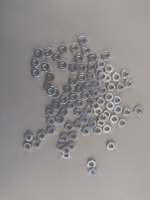nut: (31, 68, 41, 78), (30, 58, 40, 68), (58, 61, 68, 71), (78, 36, 88, 46), (98, 72, 108, 82), (75, 84, 85, 94), (112, 72, 122, 82), (53, 52, 62, 63), (70, 43, 79, 54), (34, 49, 44, 58), (41, 63, 51, 72), (46, 73, 55, 83), (59, 45, 68, 55), (75, 54, 84, 64), (69, 63, 78, 73), (102, 51, 111, 61), (89, 53, 98, 63), (69, 93, 79, 102), (63, 85, 73, 94), (114, 106, 124, 115), (135, 106, 144, 116), (106, 102, 116, 111), (78, 63, 87, 73), (69, 77, 79, 86), (87, 72, 97, 81), (77, 74, 87, 83), (83, 82, 93, 91), (81, 91, 91, 100), (93, 79, 102, 89), (87, 63, 97, 72), (105, 64, 114, 74), (107, 83, 117, 92), (107, 142, 116, 151), (60, 134, 69, 143), (69, 132, 78, 141), (82, 127, 91, 136), (46, 117, 55, 126), (65, 123, 74, 132), (46, 108, 55, 117), (67, 143, 76, 152), (119, 119, 128, 128), (74, 108, 83, 117), (111, 115, 120, 124), (47, 87, 56, 96), (52, 89, 61, 98), (82, 47, 91, 56), (60, 95, 69, 104), (76, 99, 85, 108), (92, 102, 101, 111), (103, 110, 112, 119), (114, 96, 123, 105), (105, 93, 114, 102), (91, 89, 100, 98), (99, 86, 108, 95), (97, 60, 106, 69), (122, 70, 131, 79), (125, 80, 134, 89), (117, 83, 126, 92), (45, 48, 53, 58), (38, 131, 46, 141), (60, 107, 68, 117), (100, 113, 108, 123), (85, 106, 93, 116), (25, 133, 33, 142), (23, 143, 32, 151), (47, 127, 56, 135), (62, 147, 71, 155), (74, 121, 82, 130), (56, 115, 64, 124), (89, 120, 97, 129), (104, 125, 112, 134), (53, 101, 61, 110), (81, 115, 89, 124), (44, 82, 52, 91), (67, 101, 75, 110), (94, 108, 103, 116), (124, 108, 132, 117), (88, 98, 96, 107), (98, 97, 106, 106), (79, 64, 87, 73), (96, 69, 104, 78), (104, 74, 112, 83), (33, 140, 41, 148), (57, 144, 65, 152), (95, 127, 103, 135), (89, 169, 98, 176), (88, 161, 96, 168), (62, 154, 71, 160), (98, 121, 106, 127)
